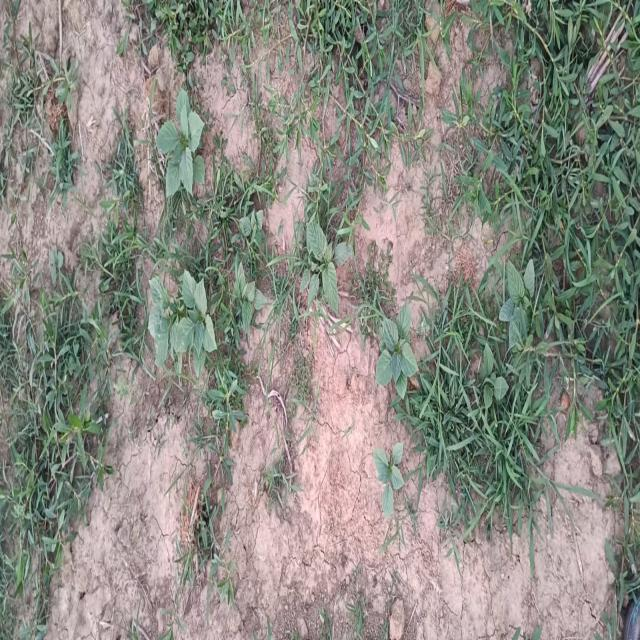plant: (148, 269, 217, 375), (156, 89, 204, 194), (301, 222, 352, 312), (376, 302, 419, 399), (500, 259, 536, 346), (373, 443, 404, 517), (482, 342, 509, 407), (240, 265, 266, 307)
